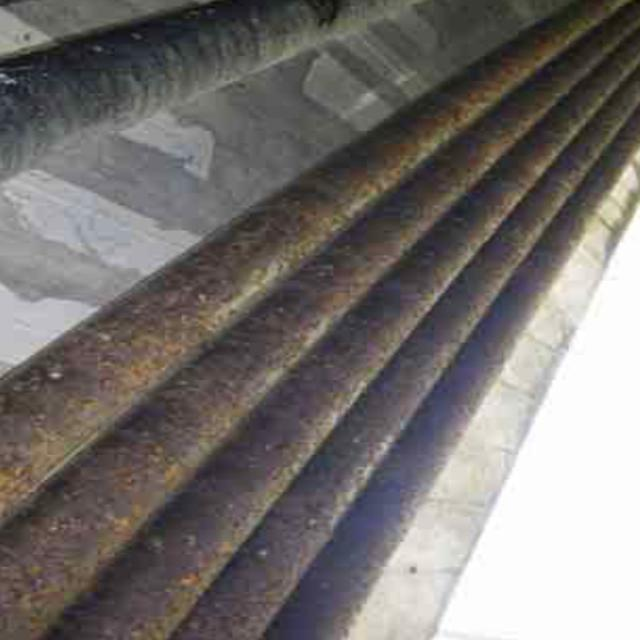leakage: (36, 43, 638, 626)
